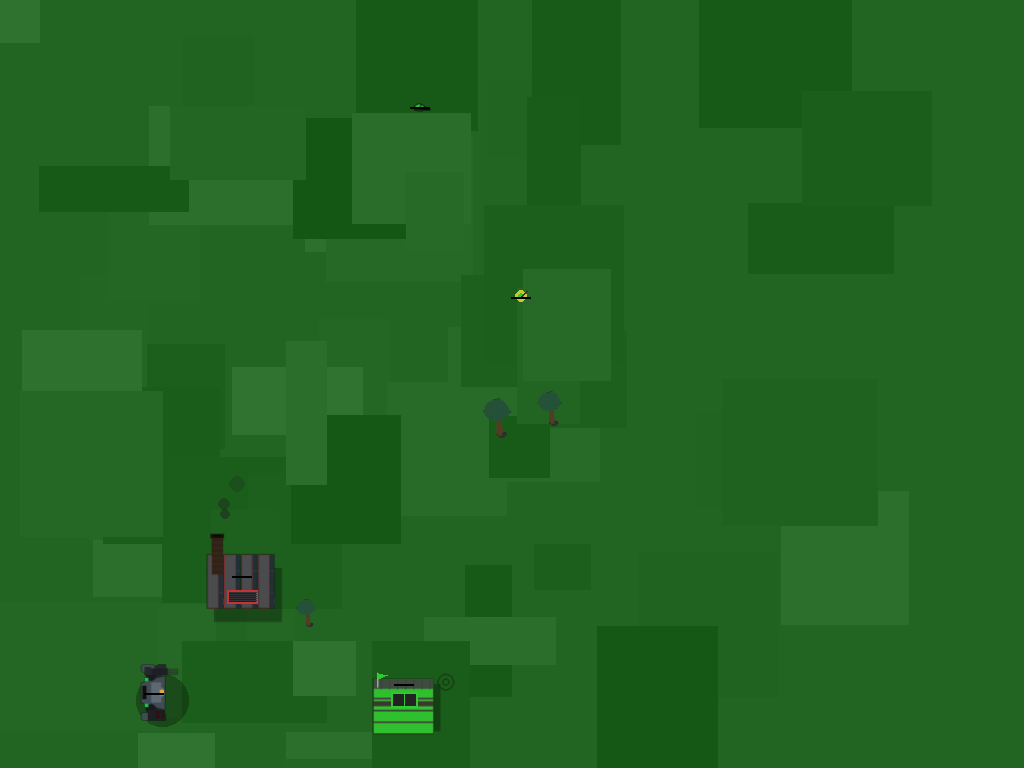APC_rus: (364, 643, 444, 723)
AntiAirTurret: (195, 528, 288, 621)
Bastion: (131, 669, 175, 713)
Rifleman: (507, 282, 535, 310)
Sniper: (406, 92, 434, 120)
